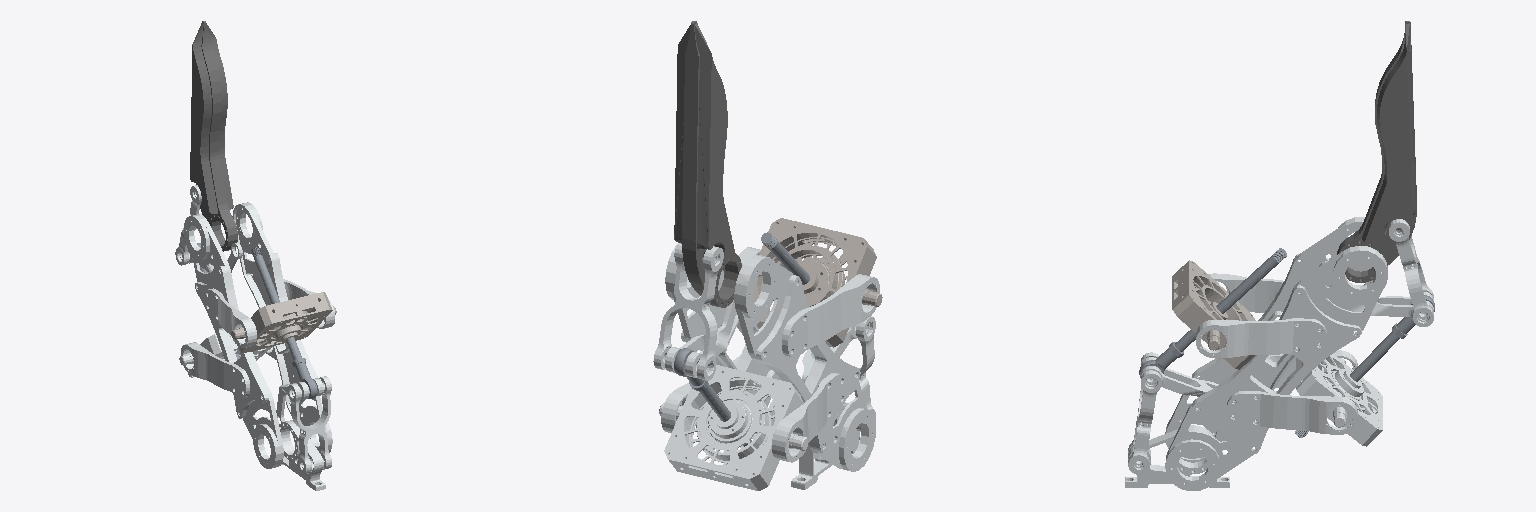
The robot description file, URDF, robot "Cury":
<?xml version="1.0" encoding="utf-8"?>
<!-- This URDF was automatically created by SolidWorks to URDF Exporter! Originally created by [author] ([email redacted]) 
     Commit Version: 1.6.0-4-g7f85cfe  Build Version: 1.6.7995.38578
     For more information, please see http://wiki.ros.org/sw_urdf_exporter -->
<robot
  name="Cury">
  <link
    name="body">
    <inertial>
      <origin
        xyz="0.0105901440518608 0.225900902518378 0.215150063540337"
        rpy="0 0 0" />
      <mass
        value="2.27561173025028" />
      <inertia
        ixx="0.0330758849136597"
        ixy="-4.55375714458704E-08"
        ixz="-1.05971672379691E-07"
        iyy="0.0187307641817114"
        iyz="-0.0134323507130473"
        izz="0.0145155563486738" />
    </inertial>
    <visual>
      <origin
        xyz="0 0 0"
        rpy="0 0 0" />
      <geometry>
        <mesh
          filename="package://Cury/meshes/body.STL" />
      </geometry>
      <material
        name="">
        <color
          rgba="0.898039215686275 0.917647058823529 0.929411764705882 1" />
      </material>
    </visual>
    <collision>
      <origin
        xyz="0 0 0"
        rpy="0 0 0" />
      <geometry>
        <mesh
          filename="package://Cury/meshes/body.STL" />
      </geometry>
    </collision>
  </link>
  <link
    name="shank">
    <inertial>
      <origin
        xyz="-9.2916230854459E-06 -0.0234210956198034 0.172151244737705"
        rpy="0 0 0" />
      <mass
        value="0.836250869579347" />
      <inertia
        ixx="0.00764335898527091"
        ixy="4.02108737759995E-07"
        ixz="-7.24721079618272E-07"
        iyy="0.00677756995133919"
        iyz="0.00215551938174825"
        izz="0.00114458006848467" />
    </inertial>
    <visual>
      <origin
        xyz="0 0 0"
        rpy="0 0 0" />
      <geometry>
        <mesh
          filename="package://Cury/meshes/shank.STL" />
      </geometry>
      <material
        name="">
        <color
          rgba="0.498039215686275 0.498039215686275 0.498039215686275 1" />
      </material>
    </visual>
    <collision>
      <origin
        xyz="0 0 0"
        rpy="0 0 0" />
      <geometry>
        <mesh
          filename="package://Cury/meshes/shank.STL" />
      </geometry>
    </collision>
  </link>
  <joint
    name="shank_joint"
    type="continuous">
    <origin
      xyz="0.0105 0.35039 0.3717"
      rpy="-0.41887 0 0" />
    <parent
      link="body" />
    <child
      link="shank" />
    <axis
      xyz="-1 0 0" />
  </joint>
  <link
    name="knee">
    <inertial>
      <origin
        xyz="0.0507438522838648 0.0407280353639849 0.0234999999999999"
        rpy="0 0 0" />
      <mass
        value="0.16896557088809" />
      <inertia
        ixx="0.000183653661826267"
        ixy="-0.000203870885492928"
        ixz="3.90257663284892E-08"
        iyy="0.000274029498899574"
        iyz="-4.86229621465866E-08"
        izz="0.000435496137027048" />
    </inertial>
    <visual>
      <origin
        xyz="0 0 0"
        rpy="0 0 0" />
      <geometry>
        <mesh
          filename="package://Cury/meshes/knee.STL" />
      </geometry>
      <material
        name="">
        <color
          rgba="0.898039215686275 0.917647058823529 0.929411764705882 1" />
      </material>
    </visual>
    <collision>
      <origin
        xyz="0 0 0"
        rpy="0 0 0" />
      <geometry>
        <mesh
          filename="package://Cury/meshes/knee.STL" />
      </geometry>
    </collision>
  </link>
  <joint
    name="knee_joint"
    type="continuous">
    <origin
      xyz="-0.0235 0.029501 0.074362"
      rpy="0 1.5708 0" />
    <parent
      link="shank" />
    <child
      link="knee" />
    <axis
      xyz="0 0 -1" />
  </joint>
  <link
    name="knee_link2_1">
    <inertial>
      <origin
        xyz="0.119818773476801 -0.165816910808346 0.0341321656065537"
        rpy="0 0 0" />
      <mass
        value="7.10511366302876" />
      <inertia
        ixx="0.0762420815484726"
        ixy="0.0223133529910027"
        ixz="5.76452759145236E-05"
        iyy="0.189273959771324"
        iyz="-0.000111198042110561"
        izz="0.238444030427425" />
    </inertial>
    <visual>
      <origin
        xyz="0 0 0"
        rpy="0 0 0" />
      <geometry>
        <mesh
          filename="package://Cury/meshes/knee_link2_1.STL" />
      </geometry>
      <material
        name="">
        <color
          rgba="1 1 1 1" />
      </material>
    </visual>
    <collision>
      <origin
        xyz="0 0 0"
        rpy="0 0 0" />
      <geometry>
        <mesh
          filename="package://Cury/meshes/knee_link2_1.STL" />
      </geometry>
    </collision>
  </link>
  <joint
    name="Joint_knee_link2_1"
    type="continuous">
    <origin
      xyz="0.109166345766346 0.0876191024294878 -0.0107500000000001"
      rpy="0 0 0" />
    <parent
      link="knee" />
    <child
      link="knee_link2_1" />
    <axis
      xyz="0 0 -1" />
  </joint>
  <link
    name="motor_shank">
    <inertial>
      <origin
        xyz="0.0805 0.00076289220267739 0.00242183295225684"
        rpy="0 0 0" />
      <mass
        value="1.16088770473387" />
      <inertia
        ixx="0.00184164009486856"
        ixy="1.94965219000594E-06"
        ixz="-6.14152372398836E-07"
        iyy="0.00251772453894561"
        iyz="0.000465639674224115"
        izz="0.00384923765890831" />
    </inertial>
    <visual>
      <origin
        xyz="0 0 0"
        rpy="0 0 0" />
      <geometry>
        <mesh
          filename="package://Cury/meshes/motor_shank.STL" />
      </geometry>
      <material
        name="">
        <color
          rgba="0.898039215686275 0.917647058823529 0.929411764705882 1" />
      </material>
    </visual>
    <collision>
      <origin
        xyz="0 0 0"
        rpy="0 0 0" />
      <geometry>
        <mesh
          filename="package://Cury/meshes/motor_shank.STL" />
      </geometry>
    </collision>
  </link>
  <joint
    name="motor_shank_joint"
    type="continuous">
    <origin
      xyz="-0.07 0.31937 0.15219"
      rpy="-0.41887 0 0" />
    <parent
      link="body" />
    <child
      link="motor_shank" />
    <axis
      xyz="-1 0 0" />
  </joint>
  <link
    name="screw_shank">
    <inertial>
      <origin
        xyz="-0.0046943316501748 1.58920953677033E-05 -6.62898806314677E-06"
        rpy="0 0 0" />
      <mass
        value="0.412507984580744" />
      <inertia
        ixx="1.4093525010169E-05"
        ixy="1.67531922748995E-08"
        ixz="-9.99800787411163E-08"
        iyy="0.00201303930505335"
        iyz="-3.14568989868767E-09"
        izz="0.00201377561561234" />
    </inertial>
    <visual>
      <origin
        xyz="0 0 0"
        rpy="0 0 0" />
      <geometry>
        <mesh
          filename="package://Cury/meshes/screw_shank.STL" />
      </geometry>
      <material
        name="">
        <color
          rgba="0.615686274509804 0.643137254901961 0.674509803921569 1" />
      </material>
    </visual>
    <collision>
      <origin
        xyz="0 0 0"
        rpy="0 0 0" />
      <geometry>
        <mesh
          filename="package://Cury/meshes/screw_shank.STL" />
      </geometry>
    </collision>
  </link>
  <joint
    name="screw_shank_joint"
    type="prismatic">
    <origin
      xyz="0.0805076727337513 0.0102165203007988 0.0324911504870415"
      rpy="-1.5707963267949 1.26562993431468 -1.5707963267949" />
    <parent
      link="motor_shank" />
    <child
      link="screw_shank" />
    <axis
      xyz="-1 0 0" />
    <limit
      lower="0"
      upper="0"
      effort="0"
      velocity="0" />
  </joint>
  <link
    name="screw_shank_link2_1">
    <inertial>
      <origin
        xyz="0.119818773476801 -0.165816910808346 0.0341321656065537"
        rpy="0 0 0" />
      <mass
        value="7.10511366302876" />
      <inertia
        ixx="0.0762420815484726"
        ixy="0.0223133529910027"
        ixz="5.76452759145271E-05"
        iyy="0.189273959771324"
        iyz="-0.000111198042110562"
        izz="0.238444030427425" />
    </inertial>
    <visual>
      <origin
        xyz="0 0 0"
        rpy="0 0 0" />
      <geometry>
        <mesh
          filename="package://Cury/meshes/screw_shank_link2_1.STL" />
      </geometry>
      <material
        name="">
        <color
          rgba="1 1 1 1" />
      </material>
    </visual>
    <collision>
      <origin
        xyz="0 0 0"
        rpy="0 0 0" />
      <geometry>
        <mesh
          filename="package://Cury/meshes/screw_shank_link2_1.STL" />
      </geometry>
    </collision>
  </link>
  <joint
    name="Joint_screw_shank_link2_1"
    type="continuous">
    <origin
      xyz="-0.152917679133784 1.75412417049714E-05 -0.0342576727337512"
      rpy="0 0 0.305166392480221" />
    <parent
      link="screw_shank" />
    <child
      link="screw_shank_link2_1" />
    <axis
      xyz="0 0 -1" />
  </joint>
  <link
    name="shank_link_1_1">
    <inertial>
      <origin
        xyz="-3.70134460739788E-05 0.10328044954171 0.0119938146635866"
        rpy="0 0 0" />
      <mass
        value="0.111289465824211" />
      <inertia
        ixx="0.000285156254346125"
        ixy="-4.21043895562268E-07"
        ixz="-4.68594208873926E-08"
        iyy="4.0914730047001E-05"
        iyz="3.95345128107561E-05"
        izz="0.000276784741852338" />
    </inertial>
    <visual>
      <origin
        xyz="0 0 0"
        rpy="0 0 0" />
      <geometry>
        <mesh
          filename="package://Cury/meshes/shank_link_1_1.STL" />
      </geometry>
      <material
        name="">
        <color
          rgba="0.898039215686275 0.917647058823529 0.929411764705882 1" />
      </material>
    </visual>
    <collision>
      <origin
        xyz="0 0 0"
        rpy="0 0 0" />
      <geometry>
        <mesh
          filename="package://Cury/meshes/shank_link_1_1.STL" />
      </geometry>
    </collision>
  </link>
  <joint
    name="shank_link_1_1_joint"
    type="continuous">
    <origin
      xyz="0.0105 0.30247 0.3524"
      rpy="-2.7227 0 -3.1416" />
    <parent
      link="body" />
    <child
      link="shank_link_1_1" />
    <axis
      xyz="-1 0 0" />
  </joint>
  <link
    name="motor_hip">
    <inertial>
      <origin
        xyz="-0.0805 -0.000901578423969498 -0.00237369663341597"
        rpy="0 0 0" />
      <mass
        value="1.16088770473387" />
      <inertia
        ixx="0.00184164009486941"
        ixy="-1.91090092944238E-06"
        ixz="7.25799170826876E-07"
        iyy="0.00257590163883755"
        iyz="0.000539350816302334"
        izz="0.00379106055901722" />
    </inertial>
    <visual>
      <origin
        xyz="0 0 0"
        rpy="0 0 0" />
      <geometry>
        <mesh
          filename="package://Cury/meshes/motor_hip.STL" />
      </geometry>
      <material
        name="">
        <color
          rgba="0.776470588235294 0.756862745098039 0.737254901960784 1" />
      </material>
    </visual>
    <collision>
      <origin
        xyz="0 0 0"
        rpy="0 0 0" />
      <geometry>
        <mesh
          filename="package://Cury/meshes/motor_hip.STL" />
      </geometry>
    </collision>
  </link>
  <joint
    name="motor_hip_joint"
    type="continuous">
    <origin
      xyz="0.0905 0.13244 0.27812"
      rpy="-0.41887 0 0" />
    <parent
      link="body" />
    <child
      link="motor_hip" />
    <axis
      xyz="1 0 0" />
  </joint>
  <link
    name="screw_hip">
    <inertial>
      <origin
        xyz="-0.00649254751711387 9.89871310336232E-06 1.40939069093945E-05"
        rpy="0 0 0" />
      <mass
        value="0.412507845128865" />
      <inertia
        ixx="1.40935300174425E-05"
        ixy="3.93342725732385E-08"
        ixz="-9.3368406971219E-08"
        iyy="0.00201303357362831"
        iyz="4.14973276969267E-09"
        izz="0.00201377913721972" />
    </inertial>
    <visual>
      <origin
        xyz="0 0 0"
        rpy="0 0 0" />
      <geometry>
        <mesh
          filename="package://Cury/meshes/screw_hip.STL" />
      </geometry>
      <material
        name="">
        <color
          rgba="0.615686274509804 0.643137254901961 0.674509803921569 1" />
      </material>
    </visual>
    <collision>
      <origin
        xyz="0 0 0"
        rpy="0 0 0" />
      <geometry>
        <mesh
          filename="package://Cury/meshes/screw_hip.STL" />
      </geometry>
    </collision>
  </link>
  <joint
    name="screw_hip_joint"
    type="prismatic">
    <origin
      xyz="-0.0804841417704625 0.0084940415141293 0.0223935226541688"
      rpy="-1.5707963267949 -1.20780625727689 1.5707963267949" />
    <parent
      link="motor_hip" />
    <child
      link="screw_hip" />
    <axis
      xyz="0.999999999896581 -1.43818918721395E-05 0" />
    <limit
      lower="0"
      upper="0"
      effort="0"
      velocity="0" />
  </joint>
  <link
    name="screw_hip_link2_2">
    <inertial>
      <origin
        xyz="-0.142559407462068 0.159091122242886 -0.033867834393446"
        rpy="0 0 0" />
      <mass
        value="7.10511366302877" />
      <inertia
        ixx="0.0762420815484726"
        ixy="0.0223133529910027"
        ixz="5.7645275914524E-05"
        iyy="0.189273959771324"
        iyz="-0.000111198042110562"
        izz="0.238444030427425" />
    </inertial>
    <visual>
      <origin
        xyz="0 0 0"
        rpy="0 0 0" />
      <geometry>
        <mesh
          filename="package://Cury/meshes/screw_hip_link2_2.STL" />
      </geometry>
      <material
        name="">
        <color
          rgba="1 1 1 1" />
      </material>
    </visual>
    <collision>
      <origin
        xyz="0 0 0"
        rpy="0 0 0" />
      <geometry>
        <mesh
          filename="package://Cury/meshes/screw_hip_link2_2.STL" />
      </geometry>
    </collision>
  </link>
  <joint
    name="Joint_screw_hip_link2_2"
    type="continuous">
    <origin
      xyz="-0.15558232086622 1.07276539624834E-05 -0.0342341417704623"
      rpy="3.14159265358979 0 2.77860258407179" />
    <parent
      link="screw_hip" />
    <child
      link="screw_hip_link2_2" />
    <axis
      xyz="0 0 1" />
  </joint>
  <link
    name="Hip ">
    <inertial>
      <origin
        xyz="0.0314732379284842 -0.0165722542902123 8.6473957227759E-05"
        rpy="0 0 0" />
      <mass
        value="0.276023306419416" />
      <inertia
        ixx="0.000377997100917868"
        ixy="0.000119214058249846"
        ixz="-3.02342954347895E-07"
        iyy="0.000268629105667674"
        iyz="1.22694943189681E-06"
        izz="0.000628262155444865" />
    </inertial>
    <visual>
      <origin
        xyz="0 0 0"
        rpy="0 0 0" />
      <geometry>
        <mesh
          filename="package://Cury/meshes/Hip .STL" />
      </geometry>
      <material
        name="">
        <color
          rgba="0.898039215686275 0.917647058823529 0.929411764705882 1" />
      </material>
    </visual>
    <collision>
      <origin
        xyz="0 0 0"
        rpy="0 0 0" />
      <geometry>
        <mesh
          filename="package://Cury/meshes/Hip .STL" />
      </geometry>
    </collision>
  </link>
  <joint
    name="Hip_Joint"
    type="continuous">
    <origin
      xyz="0.01 0.10142 0.05862"
      rpy="-1.5708 1.1519 -1.5708" />
    <parent
      link="body" />
    <child
      link="Hip " />
    <axis
      xyz="0 0 1" />
  </joint>
  <link
    name="ass">
    <inertial>
      <origin
        xyz="-0.0623943391887377 -0.0184569190946536 0.002500000098111"
        rpy="0 0 0" />
      <mass
        value="0.168965570136856" />
      <inertia
        ixx="5.36272380819843E-05"
        ixy="-0.000113601145131811"
        ixz="-1.76854555754921E-08"
        iyy="0.000404055922120646"
        iyz="5.97865257450239E-08"
        izz="0.000435496136500738" />
    </inertial>
    <visual>
      <origin
        xyz="0 0 0"
        rpy="0 0 0" />
      <geometry>
        <mesh
          filename="package://Cury/meshes/ass.STL" />
      </geometry>
      <material
        name="">
        <color
          rgba="0.898039215686275 0.917647058823529 0.929411764705882 1" />
      </material>
    </visual>
    <collision>
      <origin
        xyz="0 0 0"
        rpy="0 0 0" />
      <geometry>
        <mesh
          filename="package://Cury/meshes/ass.STL" />
      </geometry>
    </collision>
  </link>
  <joint
    name="joint_ass"
    type="continuous">
    <origin
      xyz="0.0441421232523991 -0.0679748148564586 -0.00249999999999997"
      rpy="0 0 0" />
    <parent
      link="Hip " />
    <child
      link="ass" />
    <axis
      xyz="0 0 1" />
  </joint>
  <link
    name="ass_hip_link2_2">
    <inertial>
      <origin
        xyz="-0.142559407462068 0.159091122242886 -0.033867834393446"
        rpy="0 0 0" />
      <mass
        value="7.10511366302876" />
      <inertia
        ixx="0.0762420815484726"
        ixy="0.0223133529910027"
        ixz="5.76452759145254E-05"
        iyy="0.189273959771324"
        iyz="-0.000111198042110563"
        izz="0.238444030427425" />
    </inertial>
    <visual>
      <origin
        xyz="0 0 0"
        rpy="0 0 0" />
      <geometry>
        <mesh
          filename="package://Cury/meshes/ass_hip_link2_2.STL" />
      </geometry>
      <material
        name="">
        <color
          rgba="1 1 1 1" />
      </material>
    </visual>
    <collision>
      <origin
        xyz="0 0 0"
        rpy="0 0 0" />
      <geometry>
        <mesh
          filename="package://Cury/meshes/ass_hip_link2_2.STL" />
      </geometry>
    </collision>
  </link>
  <joint
    name="Joint_ass_hip_link2_2"
    type="continuous">
    <origin
      xyz="-0.13423028971569 -0.0397067687097334 0.03675"
      rpy="0 0 0" />
    <parent
      link="ass" />
    <child
      link="ass_hip_link2_2" />
    <axis
      xyz="0 0 1" />
  </joint>
  <link
    name="hip_link_1_2">
    <inertial>
      <origin
        xyz="3.7059477847011E-05 -0.0920278339478145 0.0483896365350803"
        rpy="0 0 0" />
      <mass
        value="0.111289535295604" />
      <inertia
        ixx="0.000285156498876112"
        ixy="-3.75973935903712E-07"
        ixz="1.95373903661756E-07"
        iyy="4.4946507284634E-05"
        iyz="4.997959962771E-05"
        izz="0.000272750912961168" />
    </inertial>
    <visual>
      <origin
        xyz="0 0 0"
        rpy="0 0 0" />
      <geometry>
        <mesh
          filename="package://Cury/meshes/hip_link_1_2.STL" />
      </geometry>
      <material
        name="">
        <color
          rgba="0.898039215686275 0.917647058823529 0.929411764705882 1" />
      </material>
    </visual>
    <collision>
      <origin
        xyz="0 0 0"
        rpy="0 0 0" />
      <geometry>
        <mesh
          filename="package://Cury/meshes/hip_link_1_2.STL" />
      </geometry>
    </collision>
  </link>
  <joint
    name="hip_link_1_2_joint"
    type="continuous">
    <origin
      xyz="0.01 0.14935 0.077917"
      rpy="-0.41887 0 0" />
    <parent
      link="body" />
    <child
      link="hip_link_1_2" />
    <axis
      xyz="-1 0 0" />
  </joint>
</robot>

--- Render facts (derived) ---
Views: 3 orthographic renders of the robot side by side, from view 1: azimuth 30°, elevation 25°; view 2: azimuth 150°, elevation 25°; view 3: azimuth 270°, elevation 25°.
Robot: Cury — 15 links, 14 joints (12 continuous, 2 prismatic); root link body; default pose: all joints at 0.
Links seen in each view (by area): view 1: body, shank, motor_hip, ass, Hip, screw_hip, motor_shank, knee, hip_link_1_2; view 2: body, shank, motor_shank, motor_hip, knee, shank_link_1_1, Hip, ass, screw_shank, screw_hip, hip_link_1_2; view 3: body, shank, motor_shank, motor_hip, knee, ass, screw_hip, Hip, screw_shank, hip_link_1_2, shank_link_1_1.
Link boxes in pixels (bbox=[...]): body: bbox=[181, 202, 334, 468]; shank: bbox=[190, 21, 237, 251]; motor_hip: bbox=[231, 292, 336, 352]; ass: bbox=[287, 376, 331, 474]; Hip: bbox=[279, 420, 325, 490]; screw_hip: bbox=[251, 247, 317, 398]; motor_shank: bbox=[179, 334, 272, 377]; knee: bbox=[175, 185, 201, 265]; hip_link_1_2: bbox=[276, 378, 323, 424]; body: bbox=[661, 246, 879, 471]; shank: bbox=[674, 21, 741, 307]; motor_shank: bbox=[659, 365, 808, 490]; motor_hip: bbox=[753, 218, 882, 347]; knee: bbox=[653, 243, 723, 380]; shank_link_1_1: bbox=[665, 300, 735, 377]; Hip: bbox=[791, 403, 860, 489]; ass: bbox=[829, 317, 875, 431]; screw_shank: bbox=[674, 348, 751, 446]; screw_hip: bbox=[761, 232, 809, 284]; hip_link_1_2: bbox=[802, 325, 856, 382]; body: bbox=[1165, 217, 1387, 490]; shank: bbox=[1337, 21, 1416, 282]; motor_shank: bbox=[1296, 354, 1382, 446]; motor_hip: bbox=[1172, 260, 1255, 369]; knee: bbox=[1389, 219, 1433, 326]; ass: bbox=[1128, 352, 1161, 474]; screw_hip: bbox=[1139, 248, 1286, 379]; Hip: bbox=[1125, 425, 1229, 487]; screw_shank: bbox=[1295, 295, 1434, 437]; hip_link_1_2: bbox=[1141, 357, 1220, 440]; shank_link_1_1: bbox=[1319, 260, 1433, 319].
Bounding box of the posed robot: 0.2105 × 0.4612 × 0.7605 m (x, y, z).
Meshes: 15 distinct files referenced, 11 mesh visuals loaded (11 binary STL); not drawn: 4 (file found but could not be loaded).
